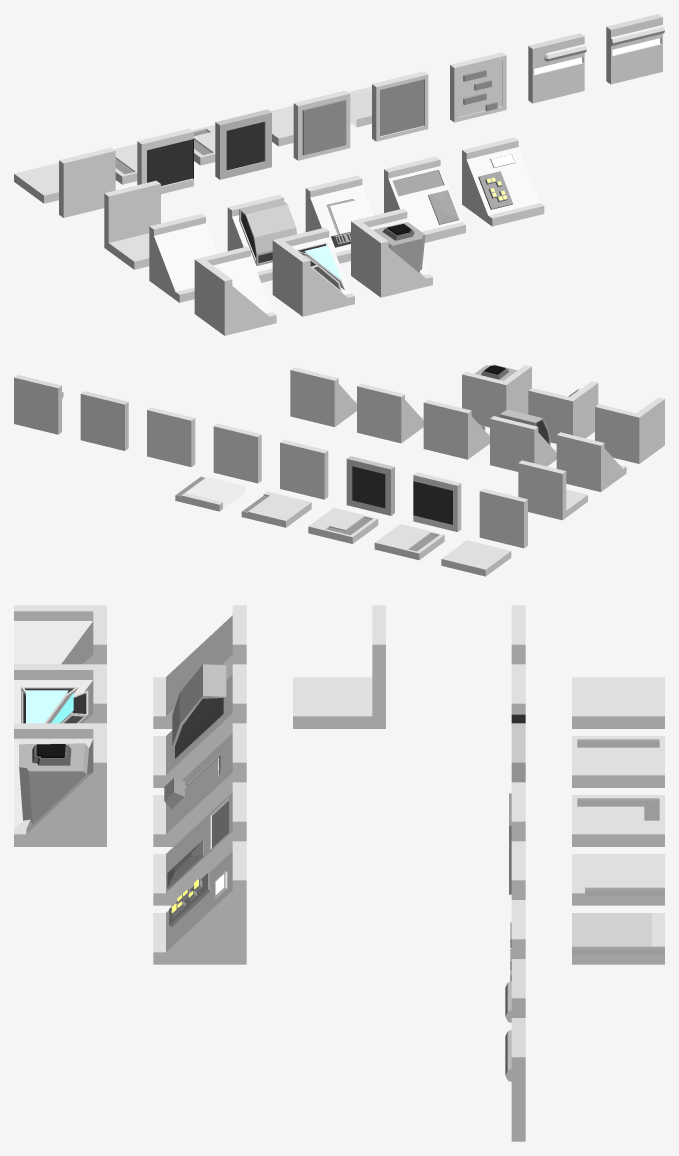
The model's file is space-grid.glb.
The picture shows the model from 3 angles, top to bottom: view 1: azimuth 30°, elevation 25°; view 2: azimuth 150°, elevation 25°; view 3: azimuth 270°, elevation 25°; orthographic projection. The views are drawn at different scales.
Parts seen in each view (by area): view 1: AngledEdge0.006, AngledEdge0.005, AngledEdge0.004, AngledEdge0.007, AngledEdge0.003, AngledEdge0, Edge0, AngledEdge0.001, AngledEdge0.002, Wall1, WallPipeCap, WallPipe (+10 smaller); view 2: AngledEdge0.004, AngledEdge0.006, AngledEdge0.001, AngledEdge0.002, AngledEdge0.007, AngledEdge0.003, AngledEdge0.005, AngledEdge0, Edge0, WallWindow, Wall2, Wall3 (+10 smaller); view 3: AngledEdge0.006, AngledEdge0.007, AngledEdge0.001, Edge0, AngledEdge0.002, AngledEdge0.004, AngledEdge0.005, AngledEdge0.003, Floor0, Floor1, Floor2, Floor3Cap (+10 smaller).
Part boxes in pixels (x1,y1,x2,y2): AngledEdge0.006: (351, 208, 432, 297); AngledEdge0.005: (272, 227, 354, 316); AngledEdge0.004: (194, 246, 276, 335); AngledEdge0.007: (462, 137, 544, 226); AngledEdge0.003: (384, 156, 465, 242); AngledEdge0: (149, 213, 217, 302); Edge0: (104, 180, 160, 269); AngledEdge0.001: (227, 194, 296, 282); AngledEdge0.002: (305, 175, 373, 263); Wall1: (293, 90, 350, 160); WallPipeCap: (528, 33, 586, 103); WallPipe: (606, 14, 664, 84); AngledEdge0.004: (595, 397, 664, 463); AngledEdge0.006: (462, 364, 531, 427); AngledEdge0.001: (490, 409, 556, 471); AngledEdge0.002: (423, 400, 489, 459); AngledEdge0.007: (290, 367, 356, 427); AngledEdge0.003: (357, 383, 423, 443); AngledEdge0.005: (528, 381, 598, 443); AngledEdge0: (556, 432, 626, 491); Edge0: (518, 460, 587, 520); WallWindow: (346, 456, 394, 515); Wall2: (213, 423, 261, 483); Wall3: (147, 407, 195, 467); AngledEdge0.006: (14, 723, 106, 846); AngledEdge0.007: (153, 841, 246, 964); AngledEdge0.001: (153, 664, 246, 787); Edge0: (293, 605, 385, 728); AngledEdge0.002: (153, 723, 246, 846); AngledEdge0.004: (14, 605, 106, 664); AngledEdge0.005: (14, 664, 106, 723); AngledEdge0.003: (153, 782, 246, 905); Floor0: (572, 677, 664, 728); Floor1: (572, 736, 664, 787); Floor2: (572, 795, 664, 846); Floor3Cap: (572, 854, 664, 905).
Size of the model in its own units: 23 by 2.08 by 14.
Materials: 1 (1 with a texture image).
